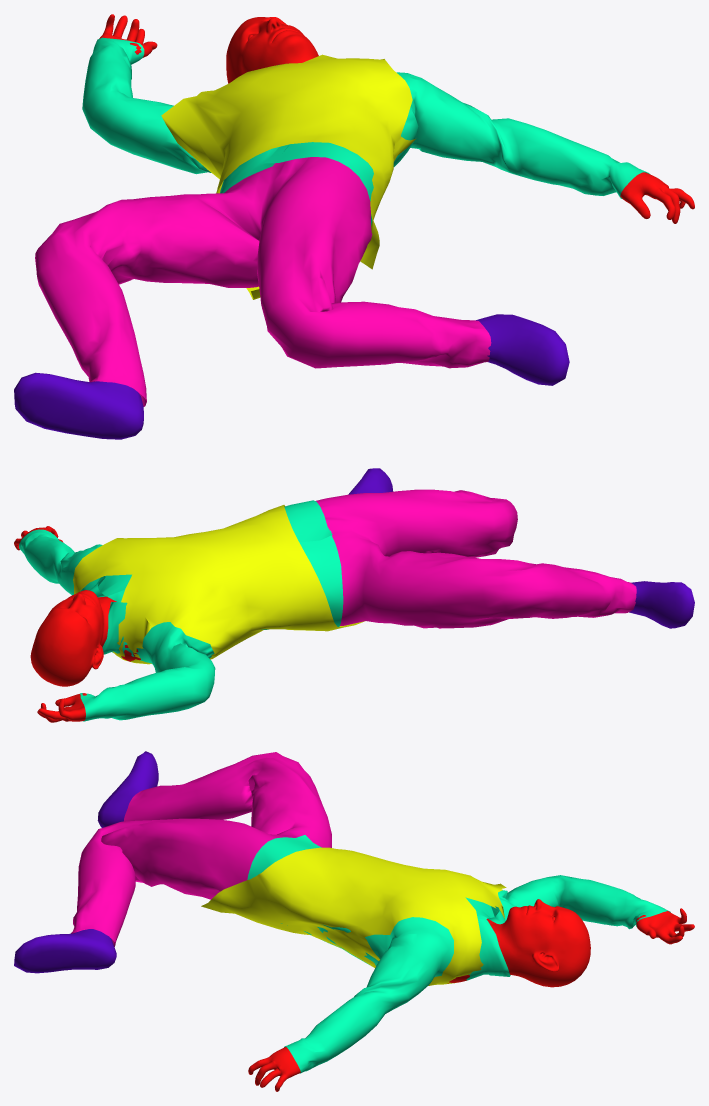
Rendered from 3d_ALL_DeadBody001.FBX.
3 views of the same model, one above another, from view 1: azimuth 30°, elevation 25°; view 2: azimuth 150°, elevation 25°; view 3: azimuth 270°, elevation 25° (orthographic). The views are drawn at different scales.
Visible parts, largest first — view 1: Group34926; view 2: Group34926; view 3: Group34926.
Part boxes in pixels (left/top/right/bottom): Group34926: left=14, top=14, right=694, bottom=439; Group34926: left=14, top=468, right=694, bottom=722; Group34926: left=14, top=751, right=694, bottom=1091.
Size of the model in its own units: 173 by 31.98 by 172.
